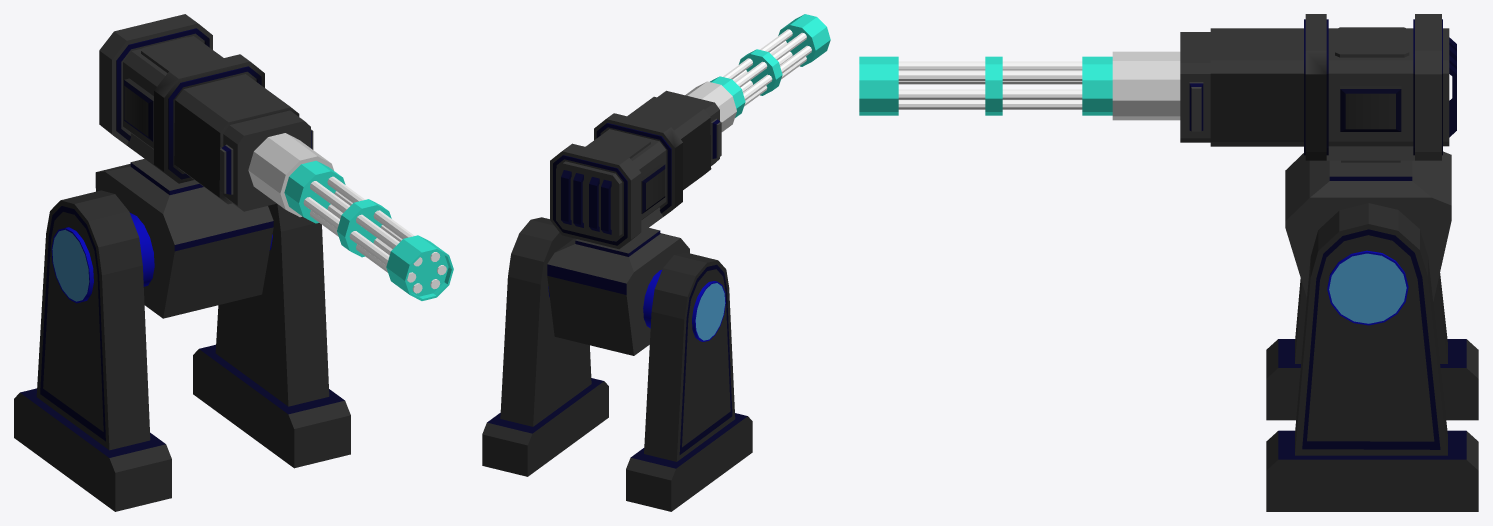
File: StandartTurret.FBX
3 views of the same model, side by side, from view 1: azimuth 30°, elevation 25°; view 2: azimuth 150°, elevation 25°; view 3: azimuth 270°, elevation 25° (orthographic). The views are drawn at different scales.
Visible parts, largest first — view 1: Base, Head; view 2: Base, Head; view 3: Base, Head.
Boxes of the visible parts, x1,y1,x2,y2 form: Base: [14, 159, 350, 511]; Head: [99, 14, 453, 300]; Base: [482, 217, 752, 511]; Head: [550, 14, 830, 249]; Base: [1266, 151, 1478, 511]; Head: [859, 14, 1456, 162].
Size of the model in its own units: 225 by 364 by 487.
